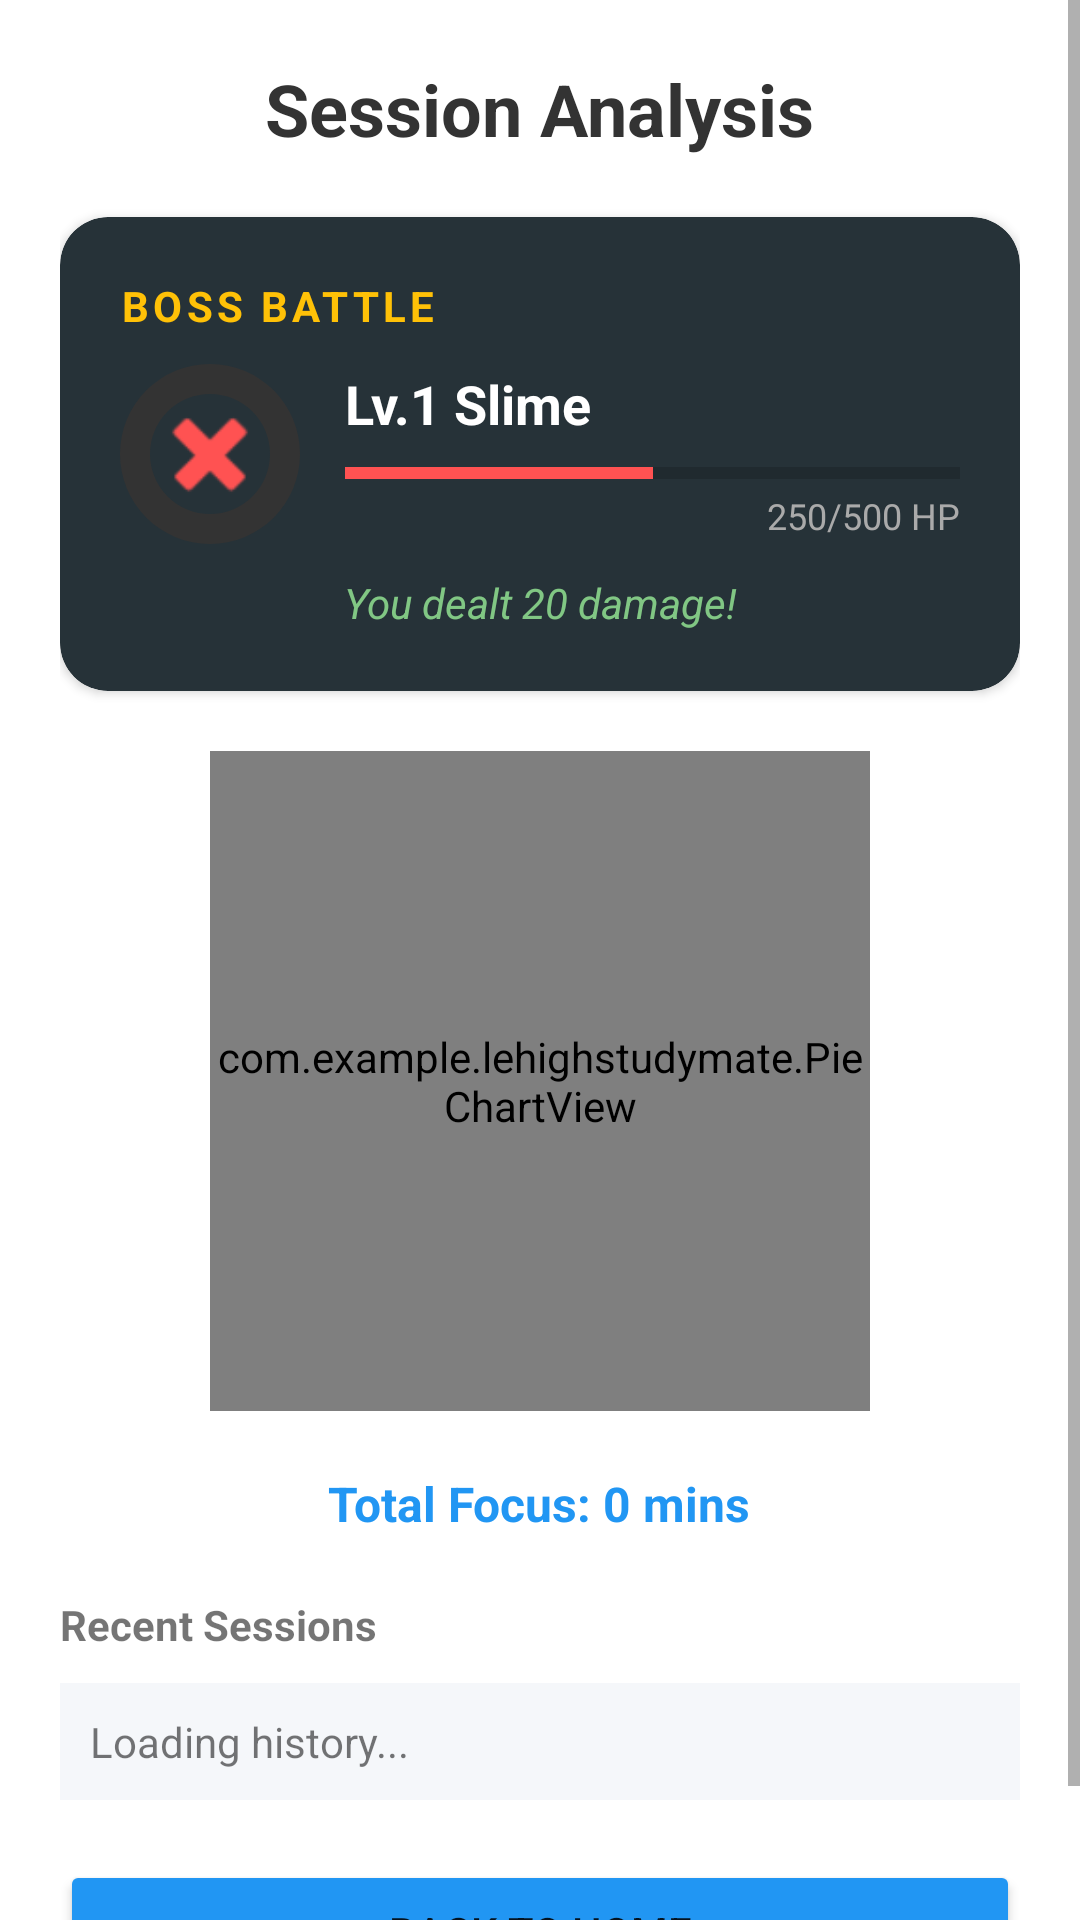

Screen size 1080x1920. Icon name, then its center in pixels as [x,y]:
delete: [210,455]
